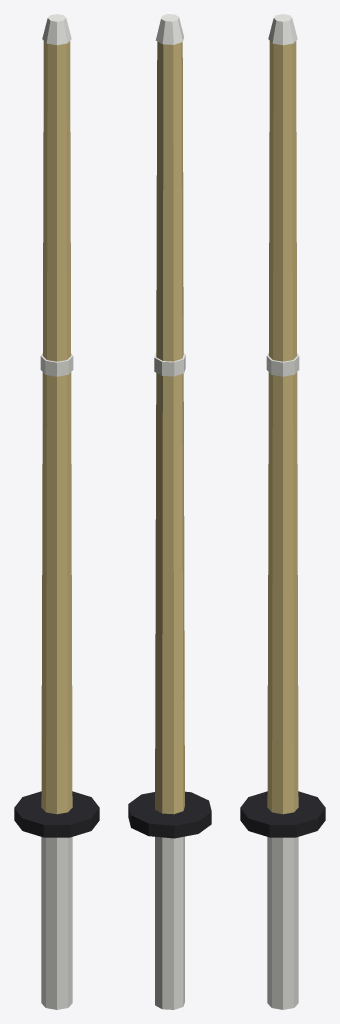
The model's file is w_shinai.glb.
3 views of the same model, side by side, from view 1: azimuth 90°, elevation 25°; view 2: azimuth 150°, elevation 25°; view 3: azimuth 270°, elevation 25° (orthographic).
Parts seen in each view (by area): view 1: shinai; view 2: shinai; view 3: shinai.
Boxes of the visible parts, <box> form: shinai: <box>14,14,99,1009</box>; shinai: <box>128,14,211,1009</box>; shinai: <box>240,14,325,1009</box>.
Bounding box in the file's own units: 0.1046 × 1.4 × 0.11.
